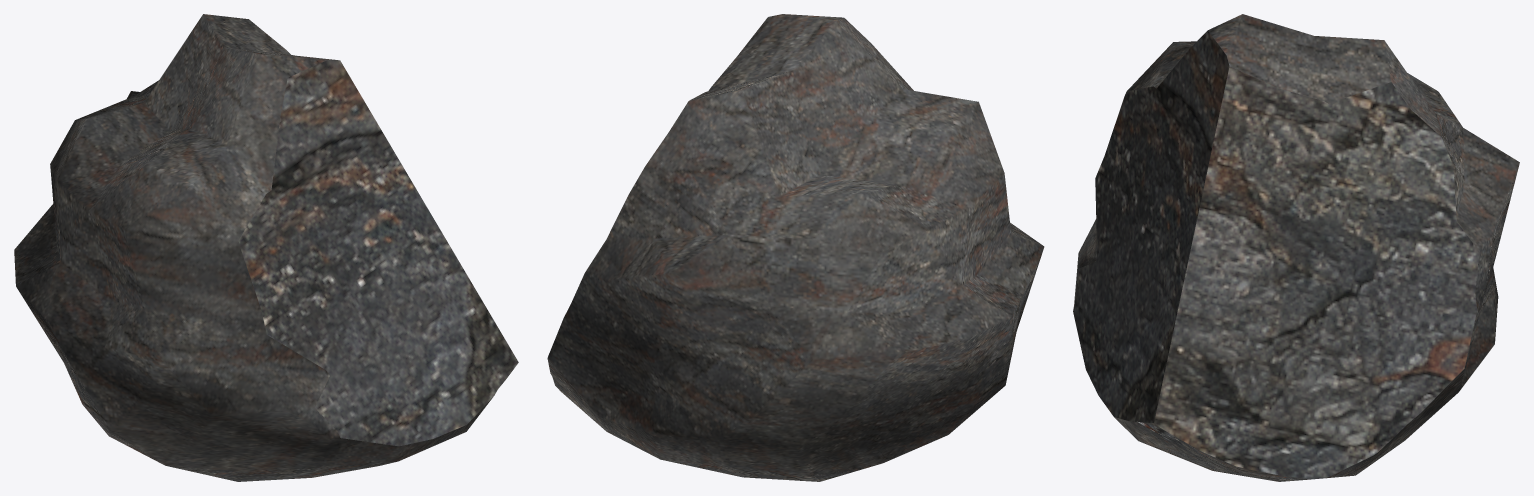
File: SM_HarvestRock_Mined02.fbx
The picture shows the model from 3 angles, left to right: view 1: azimuth 30°, elevation 25°; view 2: azimuth 150°, elevation 25°; view 3: azimuth 270°, elevation 25°; orthographic projection. The views are drawn at different scales.
Parts seen in each view (by area): view 1: SM_HarvestRock_Mined02; view 2: SM_HarvestRock_Mined02; view 3: SM_HarvestRock_Mined02.
Part boxes in pixels (x1,y1,x2,y2): SM_HarvestRock_Mined02: (14, 14, 518, 481); SM_HarvestRock_Mined02: (547, 14, 1044, 481); SM_HarvestRock_Mined02: (1073, 14, 1519, 481).
Size of the model in its own units: 154 by 151 by 148.
Materials: 2 (2 with a texture image).
